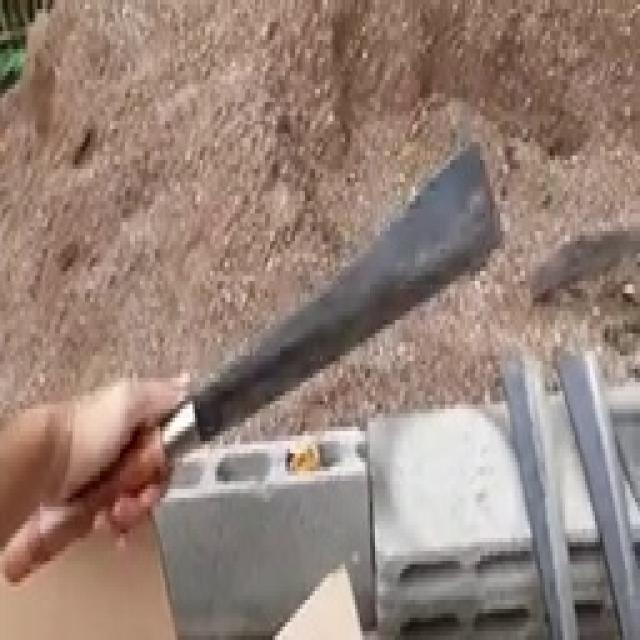eto: (494, 354, 580, 640)
